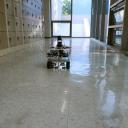cart: (46, 47, 71, 69)
